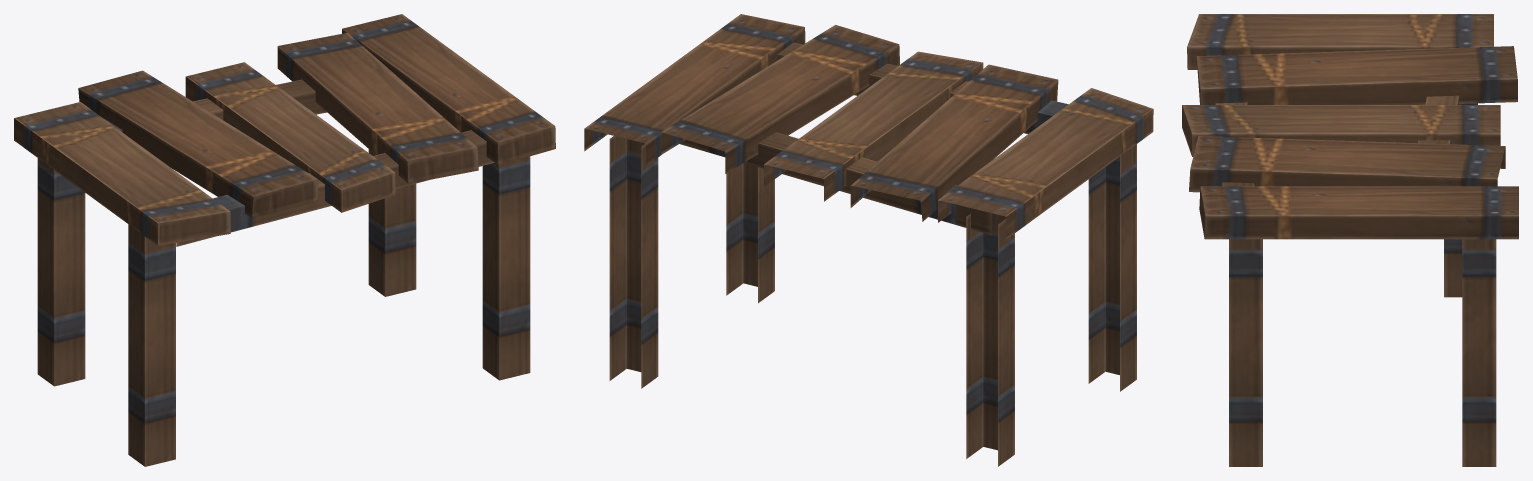
Rendered from wood_bridge.FBX.
3 renders of one model, left to right at view 1: azimuth 30°, elevation 25°; view 2: azimuth 150°, elevation 25°; view 3: azimuth 270°, elevation 25°, orthographic. The views are drawn at different scales.
Visible parts, largest first — view 1: Object107; view 2: Object107; view 3: Object107.
Boxes of the visible parts, bbox=[...] form: Object107: bbox=[14, 14, 555, 466]; Object107: bbox=[584, 14, 1153, 466]; Object107: bbox=[1182, 14, 1518, 466].
Size of the model in its own units: 99.51 by 61.54 by 70.92.
